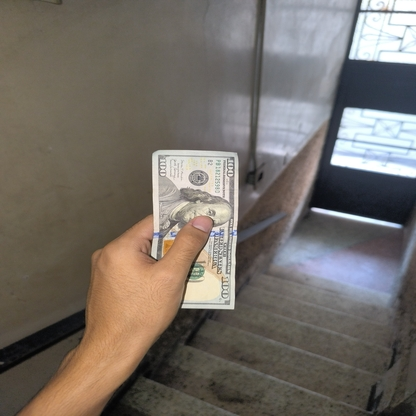one_hundred-front: (150, 148, 238, 314)
